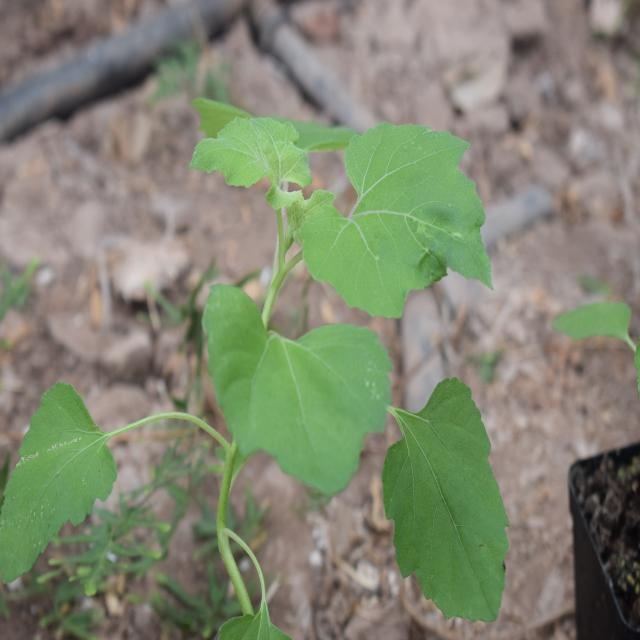cocklebur: (23, 113, 538, 602)
